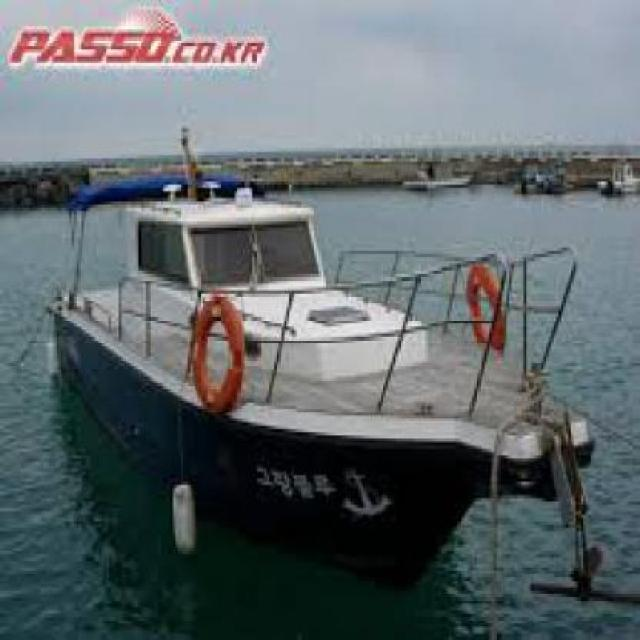fish-b: (51, 133, 614, 611)
